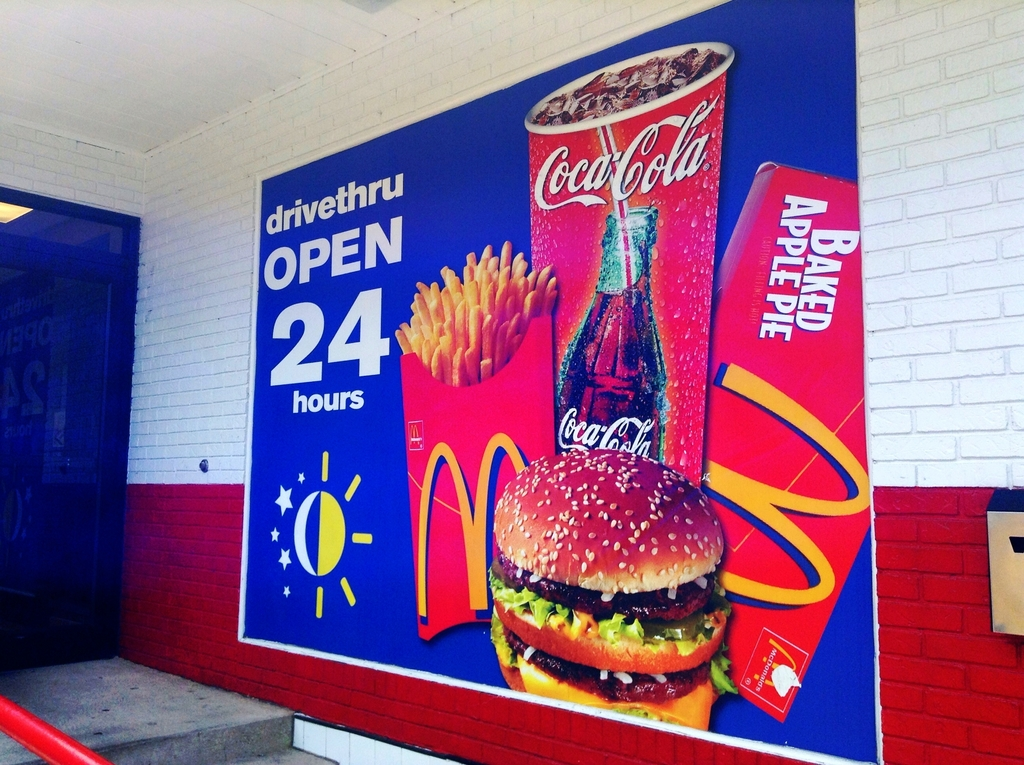Hamburger: (489, 446, 729, 727)
